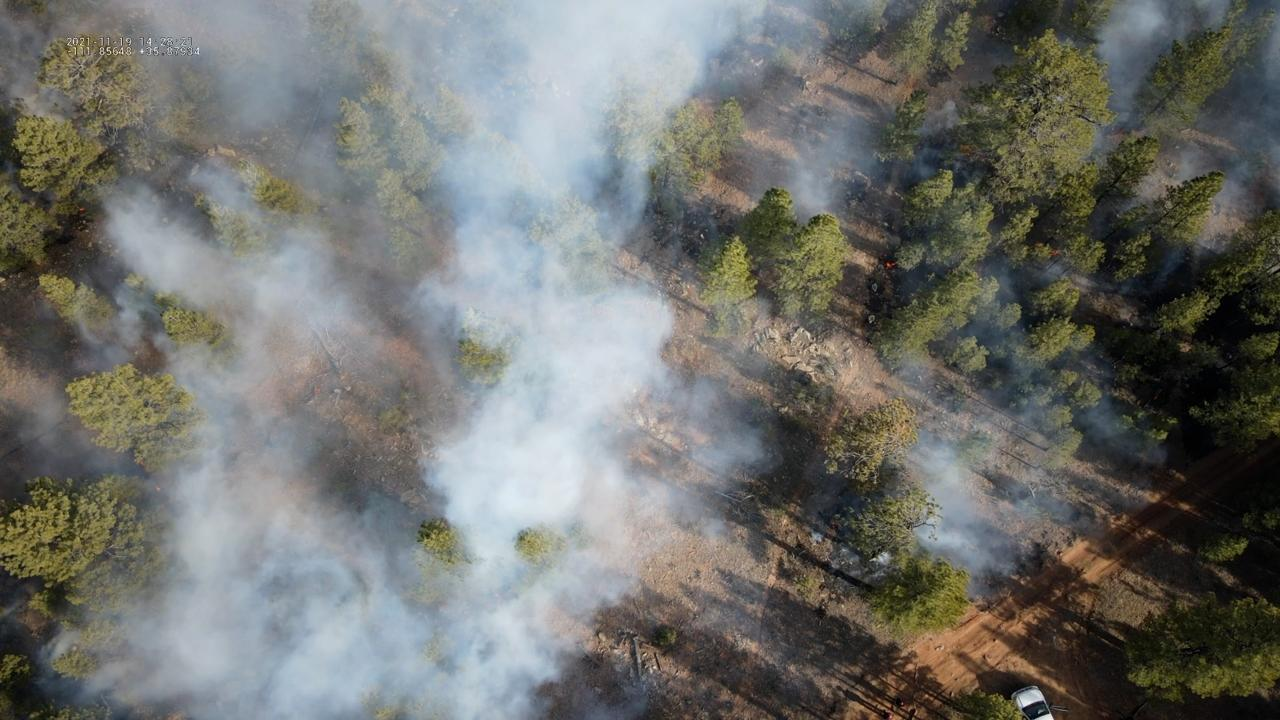fire: (958, 143, 975, 157), (1050, 248, 1062, 256), (884, 261, 897, 268), (79, 207, 86, 212)
smoke: (0, 0, 1280, 720)
